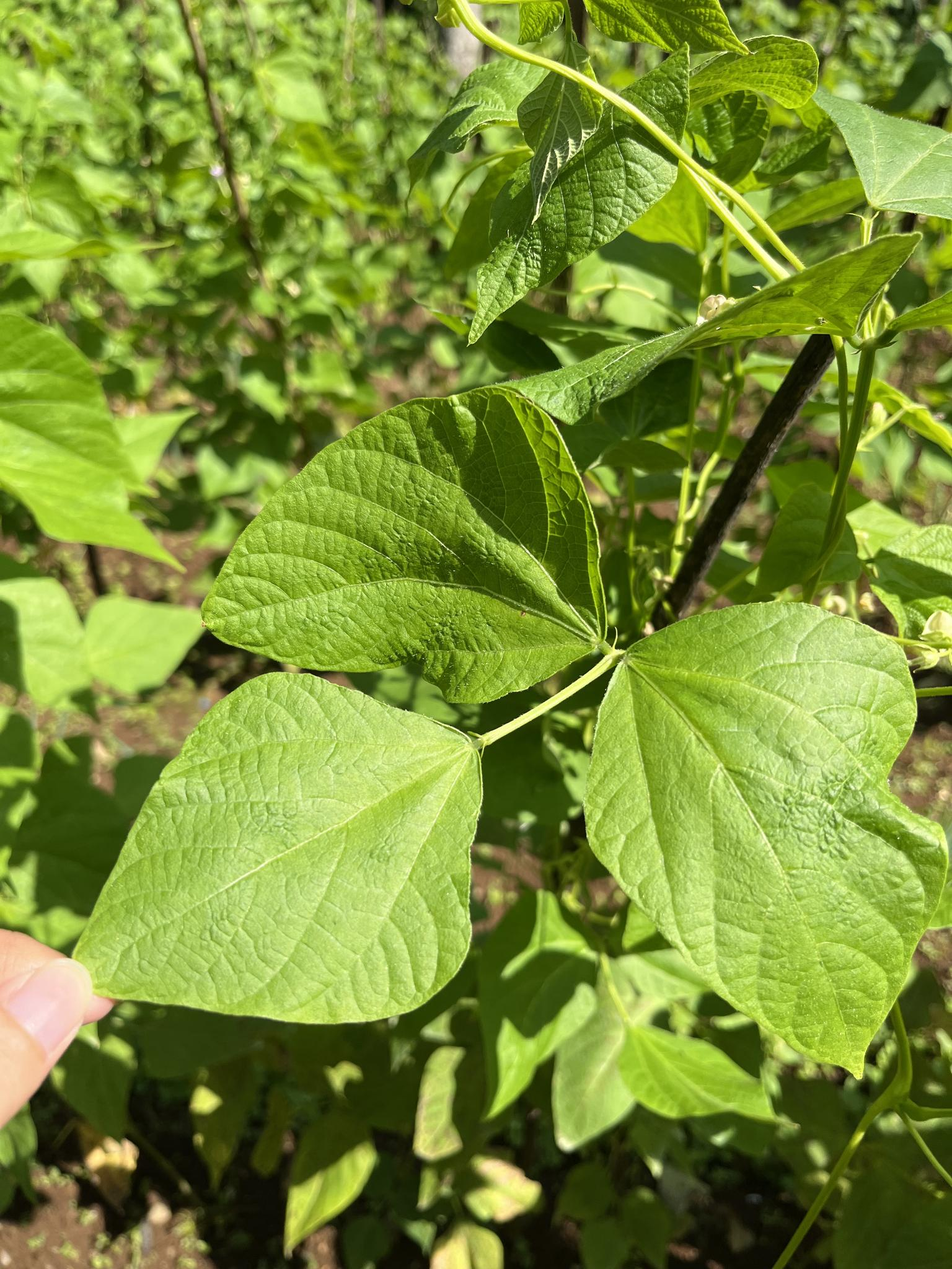sehat: (98, 673, 547, 983)
